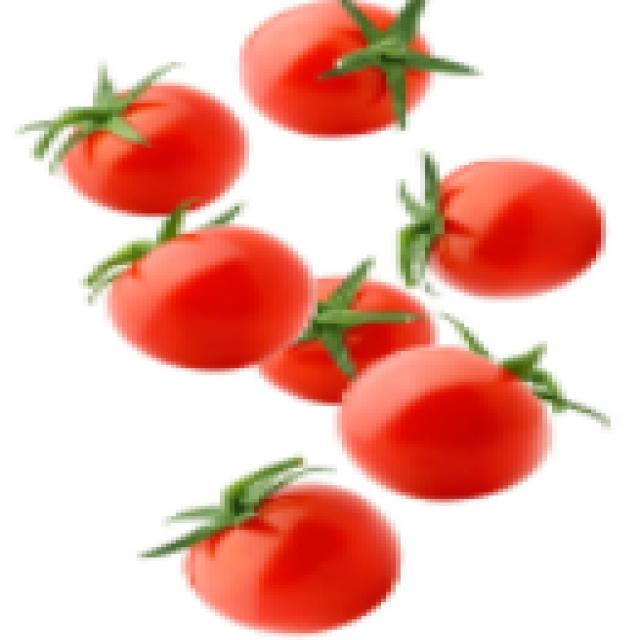Tomato: (344, 311, 588, 510), (150, 473, 427, 627), (93, 205, 321, 378), (209, 0, 440, 154), (394, 132, 598, 301), (36, 73, 254, 222)
